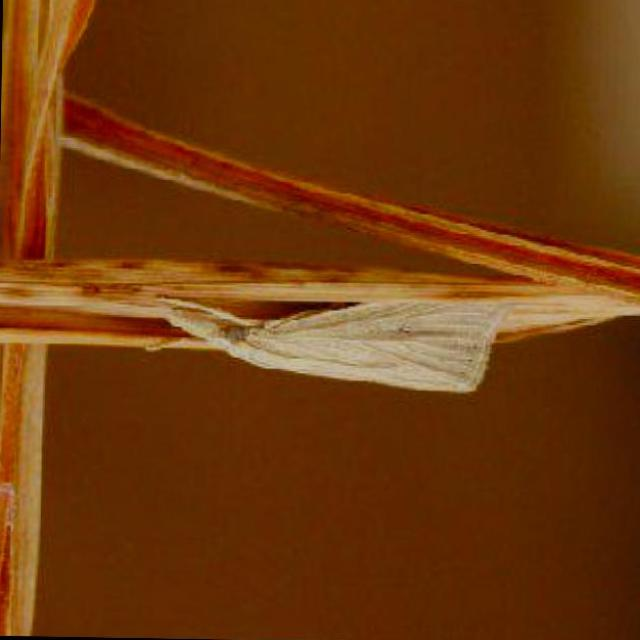stem borer: (165, 300, 508, 393)
